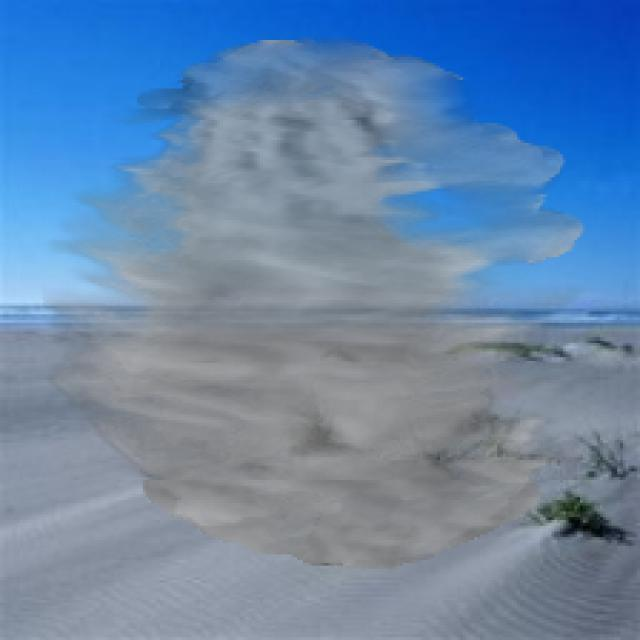Smoke: (43, 37, 586, 569)
